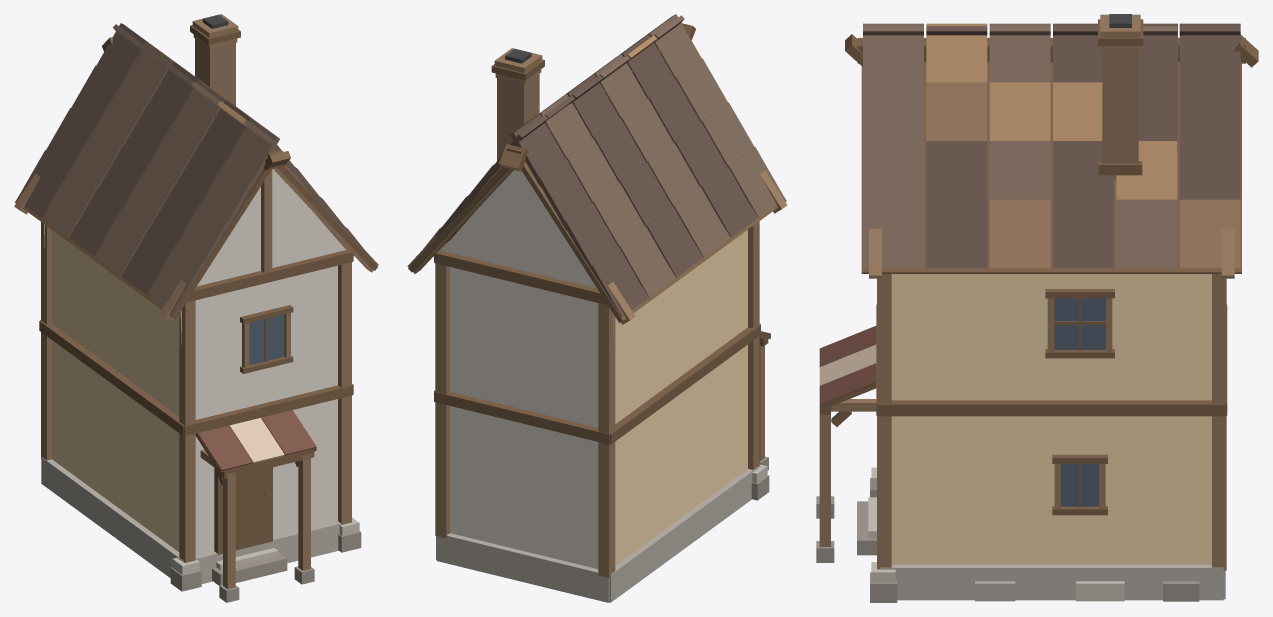
The model's file is medieval10.fbx.
3 renders of one model, left to right at view 1: azimuth 30°, elevation 25°; view 2: azimuth 150°, elevation 25°; view 3: azimuth 270°, elevation 25°, orthographic. The views are drawn at different scales.
Parts seen in each view (by area): view 1: Plinth_Right; view 2: Plinth_Right; view 3: Plinth_Right.
Boxes of the visible parts, x1,y1,x2,y2 form: Plinth_Right: (14,14,378,602); Plinth_Right: (407,14,787,602); Plinth_Right: (816,14,1258,602).
Size of the model in its own units: 369 by 764 by 547.
